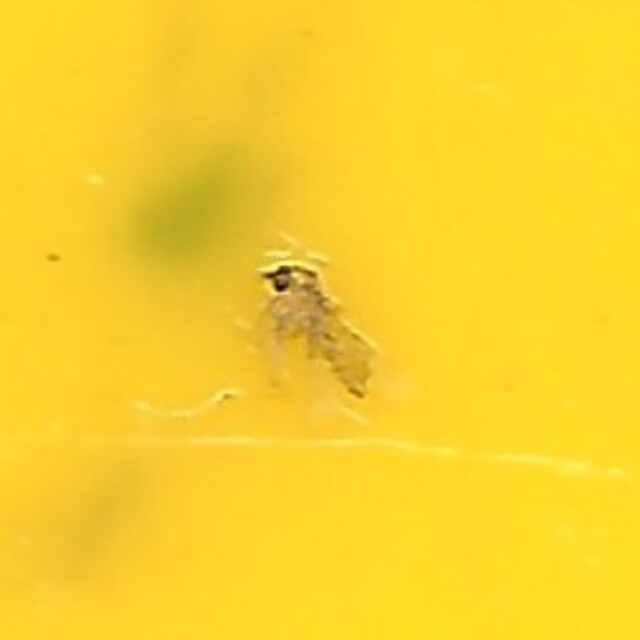Nematocera: (251, 242, 389, 398)
